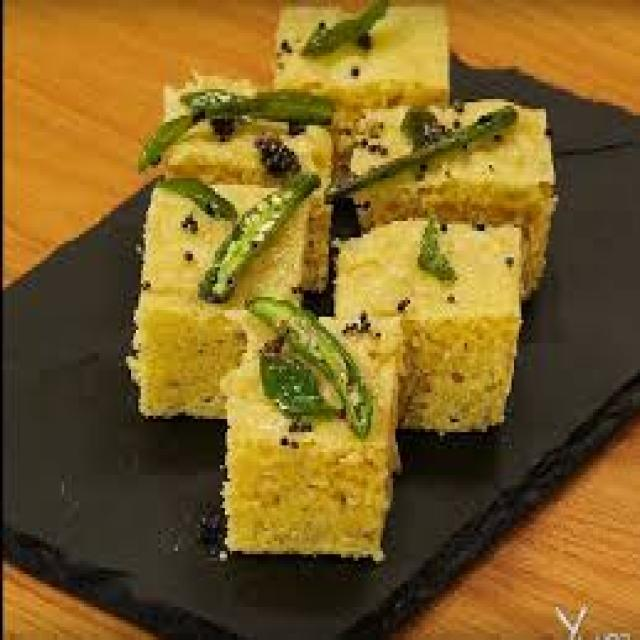DHOKLA: (225, 307, 406, 559), (137, 186, 311, 418), (354, 101, 553, 299), (332, 229, 522, 431), (157, 91, 337, 296), (269, 1, 449, 170)
